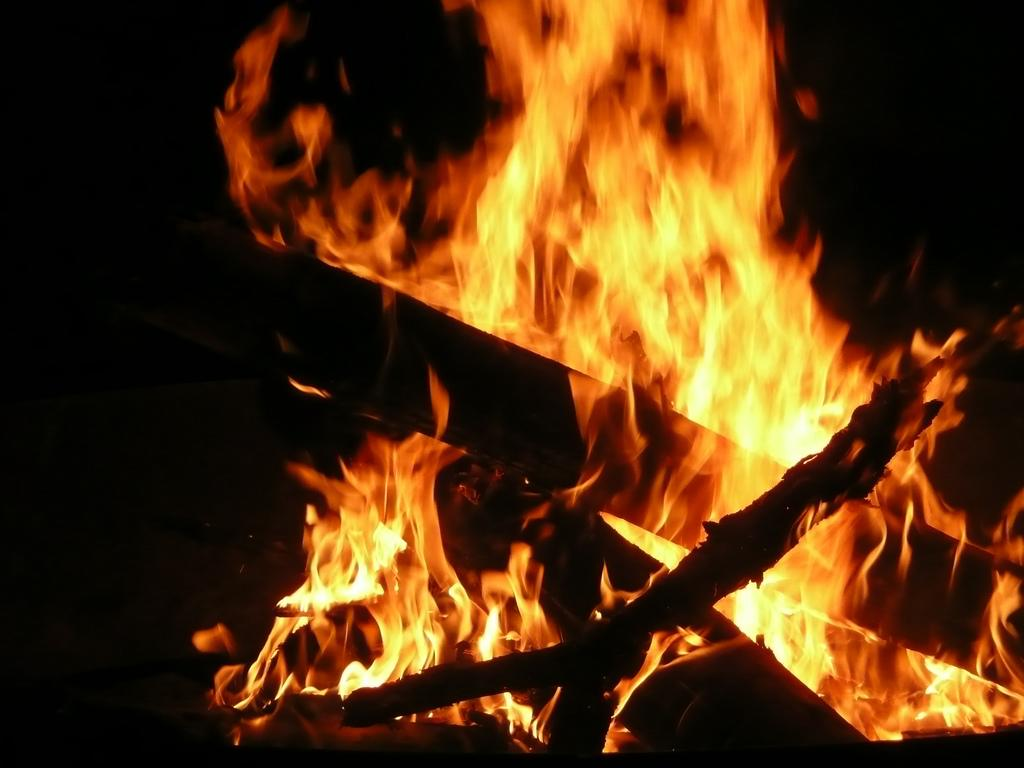fire: (502, 10, 754, 342), (318, 502, 426, 652), (766, 556, 872, 684)
